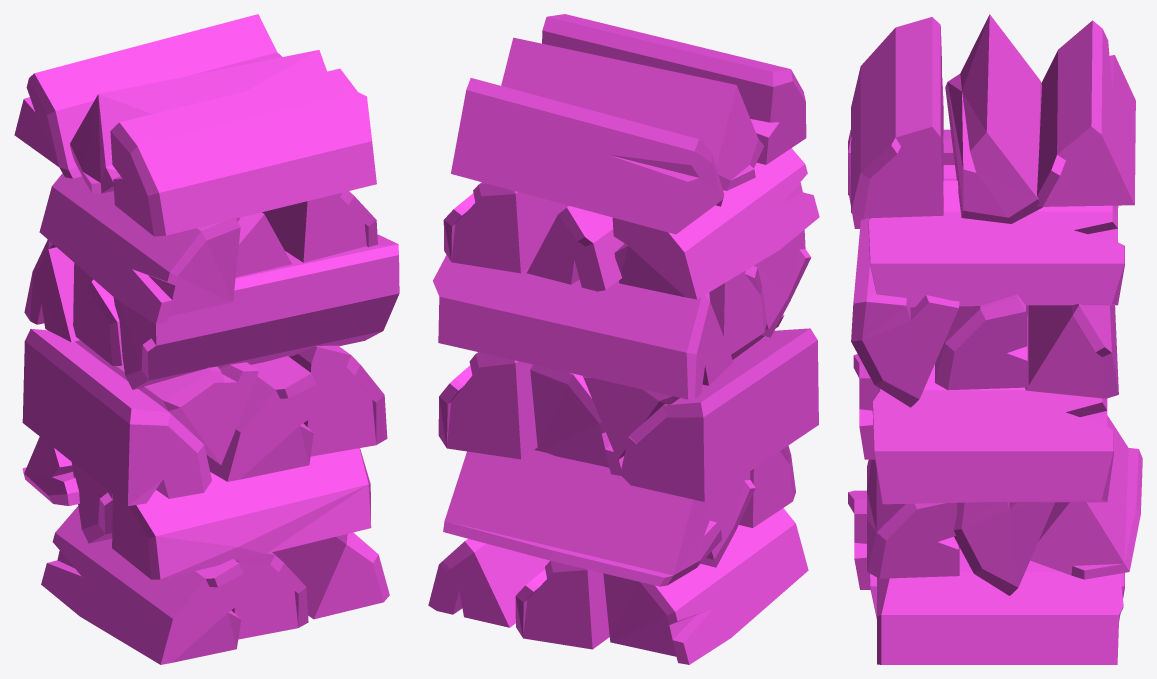
File: SM_Wood_Pile_Wall_End_Fantasy.fbx
3 views of the same model, side by side, from view 1: azimuth 30°, elevation 25°; view 2: azimuth 150°, elevation 25°; view 3: azimuth 270°, elevation 25° (orthographic). The views are drawn at different scales.
Visible parts, largest first — view 1: SM_Wood_Pile_Wall_End_Fantasy; view 2: SM_Wood_Pile_Wall_End_Fantasy; view 3: SM_Wood_Pile_Wall_End_Fantasy.
Part boxes in pixels (bbox=[...]): SM_Wood_Pile_Wall_End_Fantasy: bbox=[14, 14, 399, 664]; SM_Wood_Pile_Wall_End_Fantasy: bbox=[428, 14, 819, 664]; SM_Wood_Pile_Wall_End_Fantasy: bbox=[848, 14, 1142, 664].
Bounding box in the file's own units: 0.5811 × 1.11 × 0.5458.
